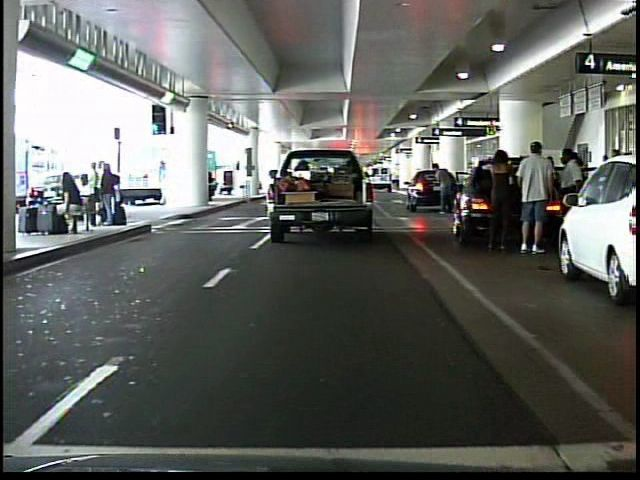person: (514, 138, 556, 256), (479, 138, 518, 258), (554, 143, 590, 257), (430, 157, 455, 220), (155, 160, 171, 206)
